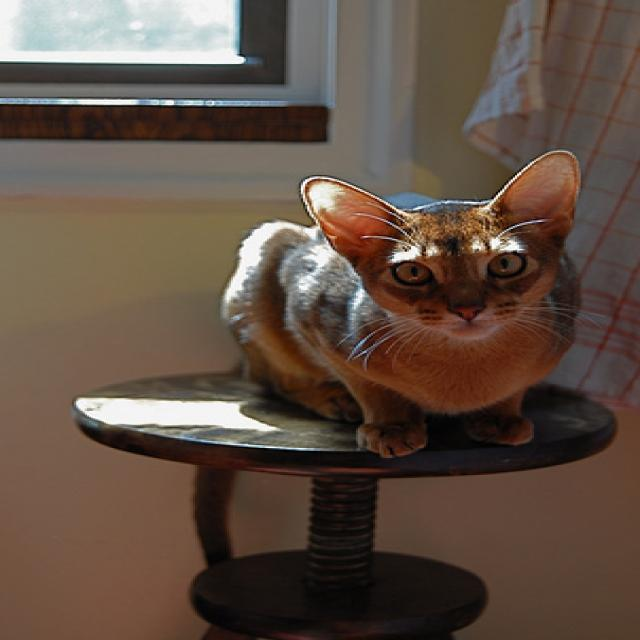Abyssinian: (212, 145, 604, 463)
